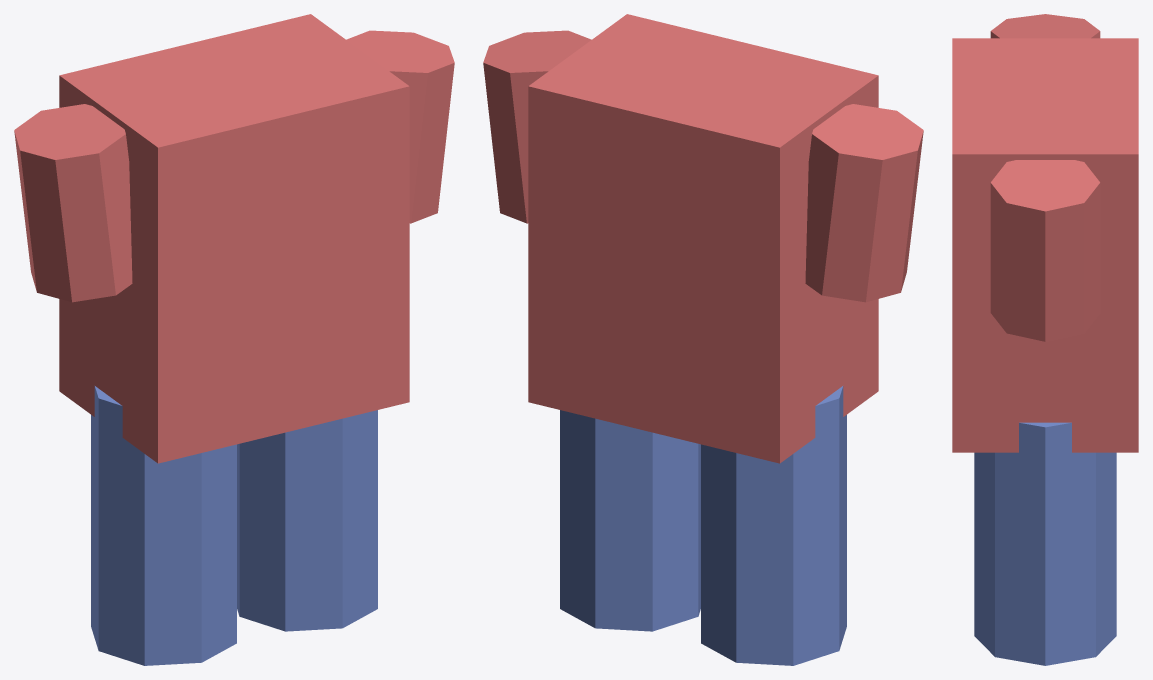
The model's file is casual.glb.
3 views of the same model, side by side, from view 1: azimuth 30°, elevation 25°; view 2: azimuth 150°, elevation 25°; view 3: azimuth 270°, elevation 25° (orthographic). The views are drawn at different scales.
Parts seen in each view (by area): view 1: top, pant, pant.001, sleeve, sleeve.001; view 2: top, pant, pant.001, sleeve, sleeve.001; view 3: top, pant.001, sleeve.001, sleeve.
Boxes of the visible parts, x1,y1,x2,y2 form: top: [59, 14, 409, 463]; pant: [91, 386, 236, 665]; pant.001: [237, 410, 377, 631]; sleeve: [14, 104, 132, 302]; sleeve.001: [346, 30, 454, 223]; top: [528, 14, 878, 463]; pant: [701, 386, 846, 665]; pant.001: [560, 410, 700, 631]; sleeve: [805, 104, 923, 302]; sleeve.001: [483, 30, 591, 223]; top: [952, 38, 1138, 452]; pant.001: [974, 422, 1116, 665]; sleeve.001: [990, 160, 1100, 341]; sleeve: [990, 14, 1100, 38].
Size of the model in its own units: 0.426 by 0.51 by 0.17.
